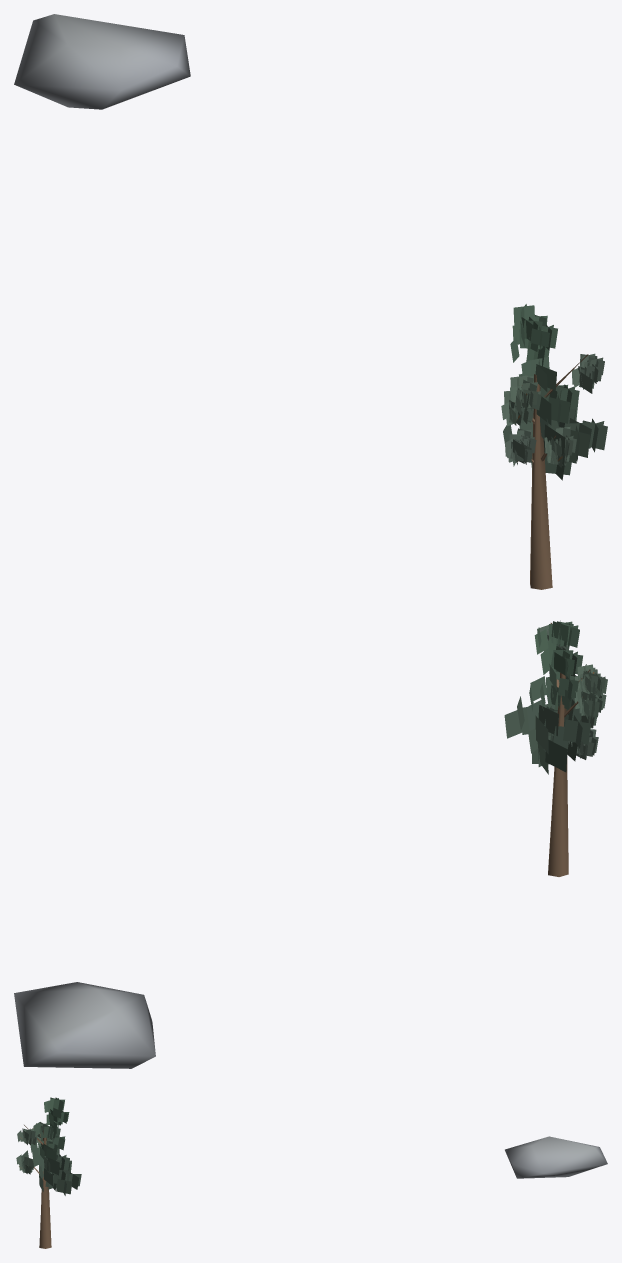
The model's file is frost_land_scatter_c18_10.glb.
3 renders of one model, top to bottom at view 1: azimuth 30°, elevation 25°; view 2: azimuth 150°, elevation 25°; view 3: azimuth 270°, elevation 25°, orthographic. The views are drawn at different scales.
Visible parts, largest first — view 1: frost_land_scatter_c18_10; view 2: frost_land_scatter_c18_10; view 3: frost_land_scatter_c18_10.
Part boxes in pixels (x1,y1,x2,y2): frost_land_scatter_c18_10: (14,14,607,589); frost_land_scatter_c18_10: (14,620,607,1068); frost_land_scatter_c18_10: (16,1097,607,1248).
Bounding box in the file's own units: 4.48 × 7.3 × 26.84.
